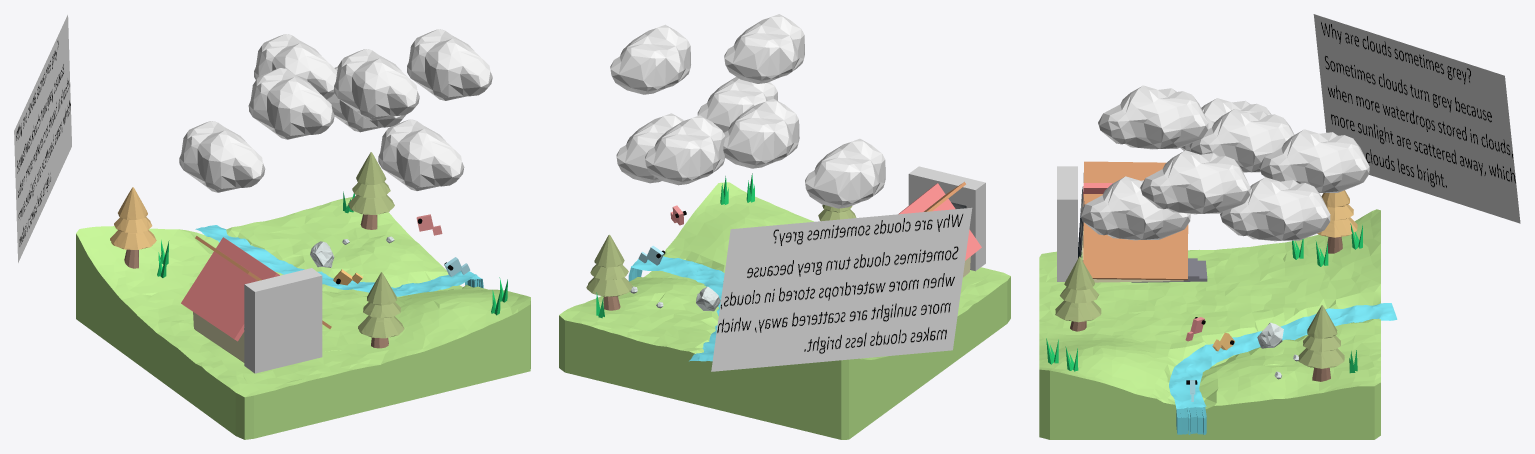
The model's file is cloud3.glb.
3 views of the same model, side by side, from view 1: azimuth 30°, elevation 25°; view 2: azimuth 150°, elevation 25°; view 3: azimuth 270°, elevation 25° (orthographic).
Parts seen in each view (by area): view 1: terrain, pPlane2, Cube, house:pCube6, pPlatonic1.003, clouds:pPlatonic1.002, pPlatonic1.001, pPlatonic1, pPlatonic1.002, clouds:pPlatonic1, water, clouds:pPlatonic1.001 (+7 smaller); view 2: terrain, pPlane2, pPlatonic1.002, pPlatonic1, clouds:pPlatonic1.002, clouds:pPlatonic1, pPlatonic1.001, Cube, pPlatonic1.003, water, clouds:pPlatonic1.001, house:pCube6 (+4 smaller); view 3: terrain, pPlane2, house:pCube5, pPlatonic1, clouds:pPlatonic1.002, clouds:pPlatonic1.001, clouds:pPlatonic1, water, pPlatonic1.003, pPlatonic1.001, Cube, pPlatonic1.002 (+8 smaller).
Boxes of the visible parts, bbox=[...] form: terrain: bbox=[76, 197, 530, 439]; pPlane2: bbox=[14, 15, 71, 262]; Cube: bbox=[244, 268, 322, 373]; house:pCube6: bbox=[181, 237, 279, 341]; pPlatonic1.003: bbox=[378, 119, 464, 190]; clouds:pPlatonic1.002: bbox=[407, 29, 492, 100]; pPlatonic1.001: bbox=[248, 68, 334, 139]; pPlatonic1: bbox=[334, 49, 419, 120]; pPlatonic1.002: bbox=[179, 121, 265, 192]; clouds:pPlatonic1: bbox=[254, 34, 336, 99]; water: bbox=[195, 225, 483, 296]; clouds:pPlatonic1.001: bbox=[327, 66, 405, 132]; terrain: bbox=[559, 182, 1010, 439]; pPlane2: bbox=[711, 207, 972, 371]; pPlatonic1.002: bbox=[805, 138, 885, 208]; pPlatonic1: bbox=[724, 14, 804, 83]; clouds:pPlatonic1.002: bbox=[610, 24, 690, 94]; clouds:pPlatonic1: bbox=[645, 115, 725, 185]; pPlatonic1.001: bbox=[723, 98, 799, 168]; Cube: bbox=[908, 166, 985, 271]; pPlatonic1.003: bbox=[697, 77, 777, 132]; water: bbox=[628, 256, 724, 361]; clouds:pPlatonic1.001: bbox=[616, 113, 683, 183]; house:pCube6: bbox=[898, 183, 981, 260]; terrain: bbox=[1039, 209, 1380, 439]; pPlane2: bbox=[1313, 14, 1520, 223]; house:pCube5: bbox=[1083, 161, 1188, 280]; pPlatonic1: bbox=[1098, 85, 1208, 149]; clouds:pPlatonic1.002: bbox=[1140, 150, 1250, 214]; clouds:pPlatonic1.001: bbox=[1220, 177, 1330, 241]; clouds:pPlatonic1: bbox=[1259, 129, 1369, 192]; water: bbox=[1169, 303, 1397, 434]; pPlatonic1.003: bbox=[1080, 176, 1190, 240]; pPlatonic1.001: bbox=[1189, 108, 1294, 172]; Cube: bbox=[1057, 166, 1077, 281]; pPlatonic1.002: bbox=[1180, 98, 1271, 151].
Size of the model in its own units: 0.4675 by 0.3333 by 0.4738.
31 materials, 2 textured.
